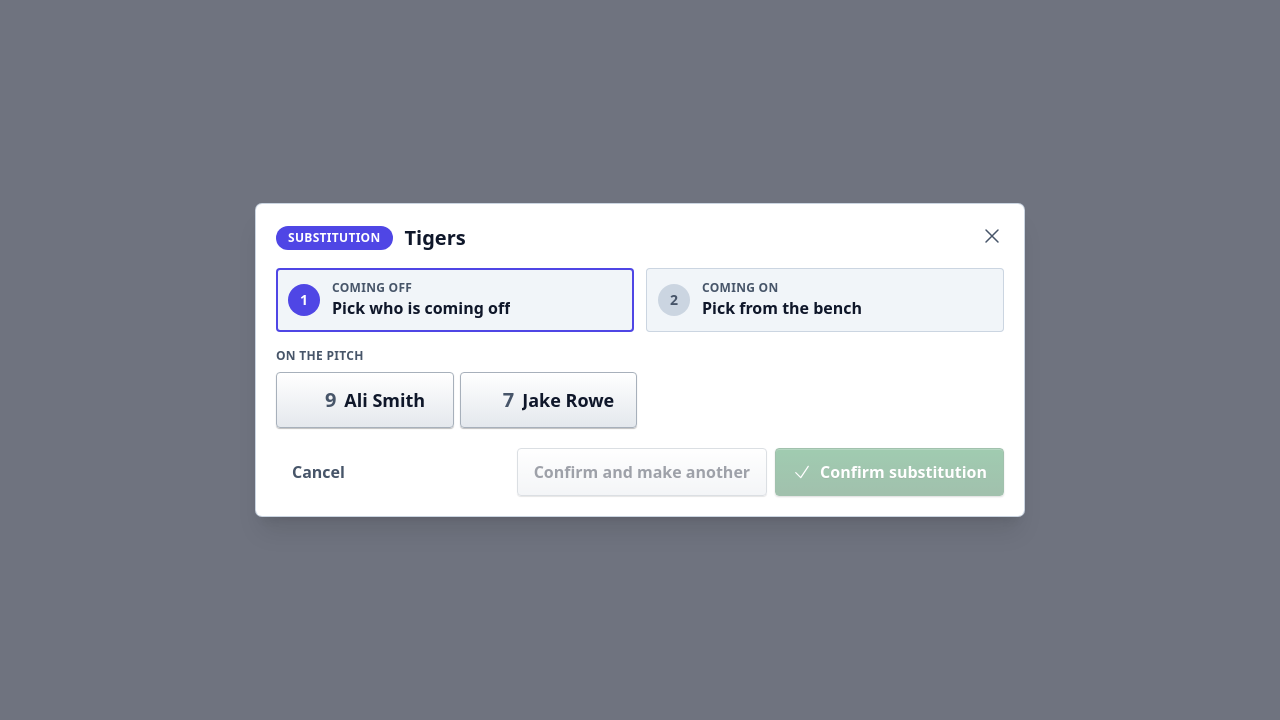
Test: SubstitutionModal › stays open for another change when asked
Click the button "9 Ali Smith": (365, 400) [276,372,454,428]
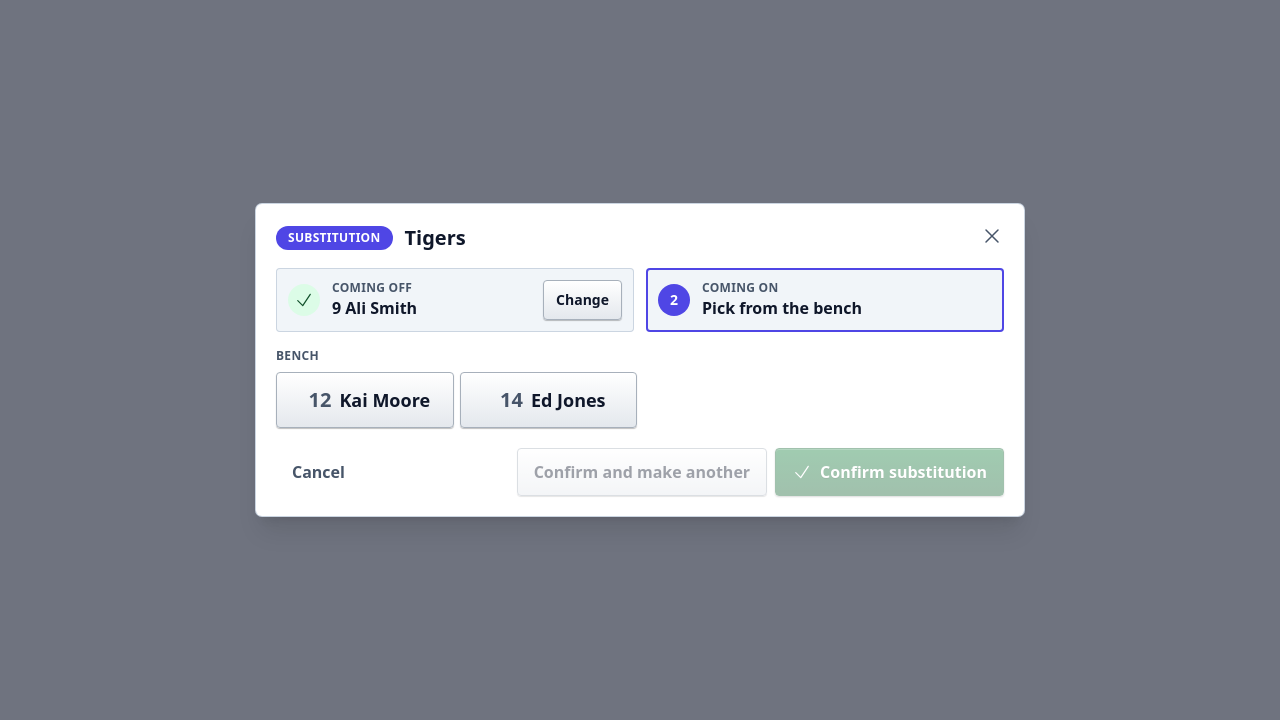
Click the button "12 Kai Moore": (365, 400) [276,372,454,428]
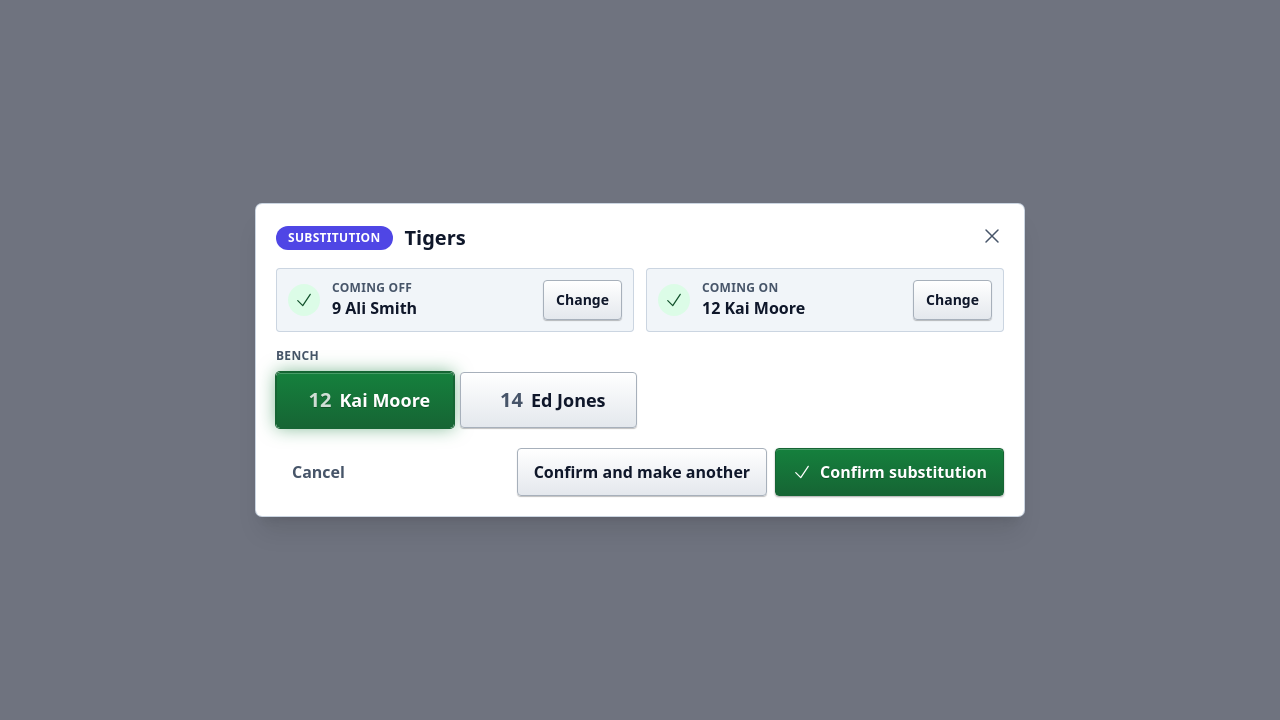
Click the button "Confirm and make another": (642, 472) [517,448,767,496]
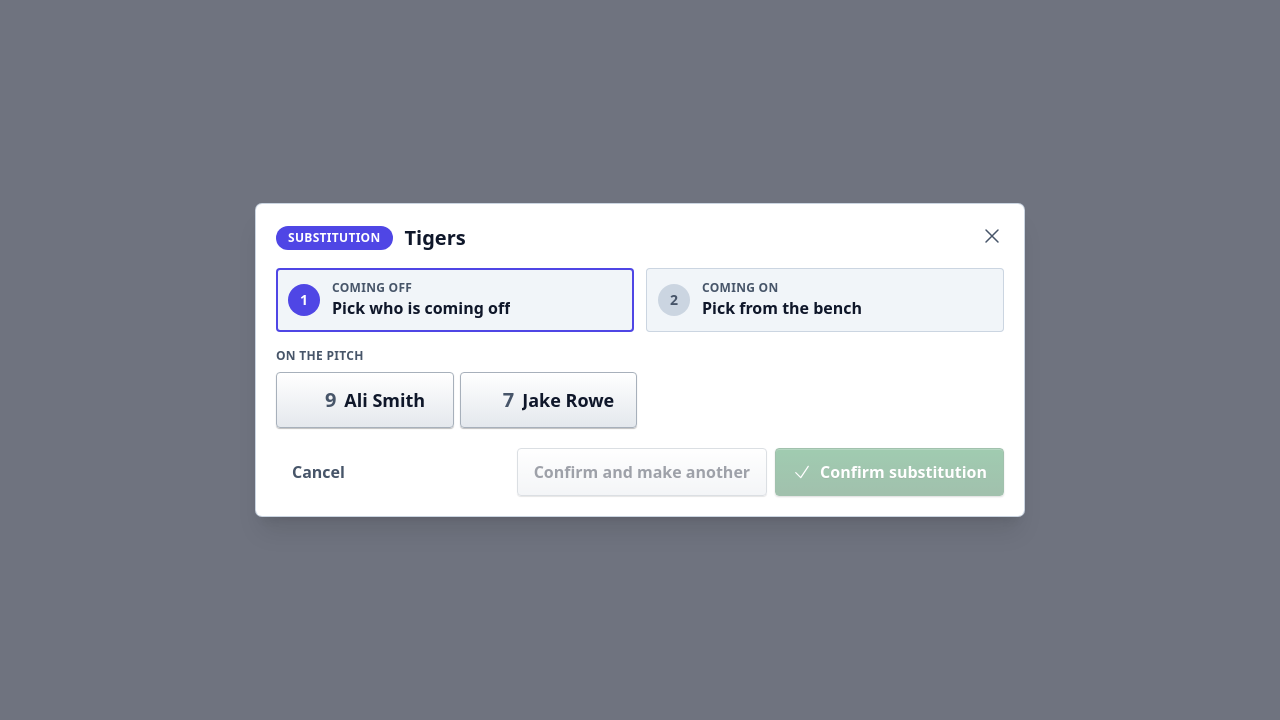
Now the text "Pick who is coming off" is shown, box [332,296,510,320]
